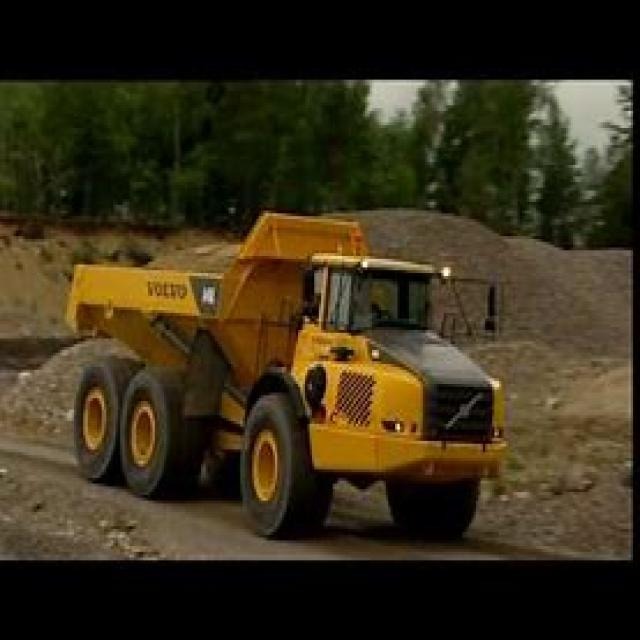dump_truck: (51, 208, 508, 540)
